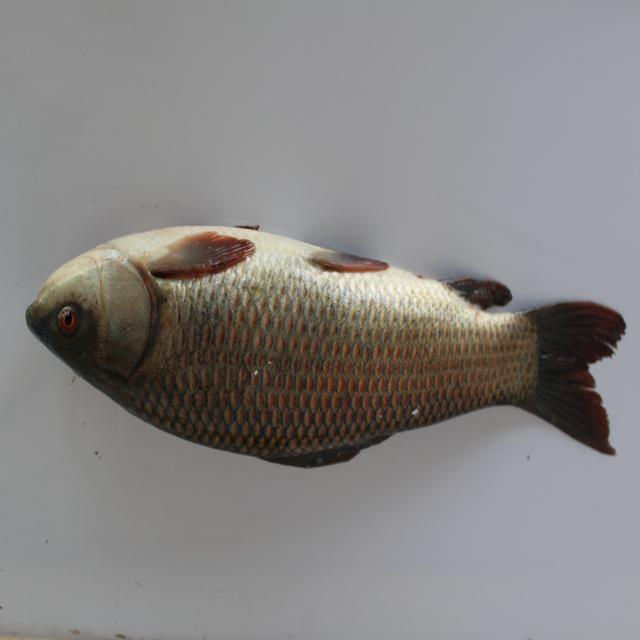Rohu: (18, 224, 628, 468)
